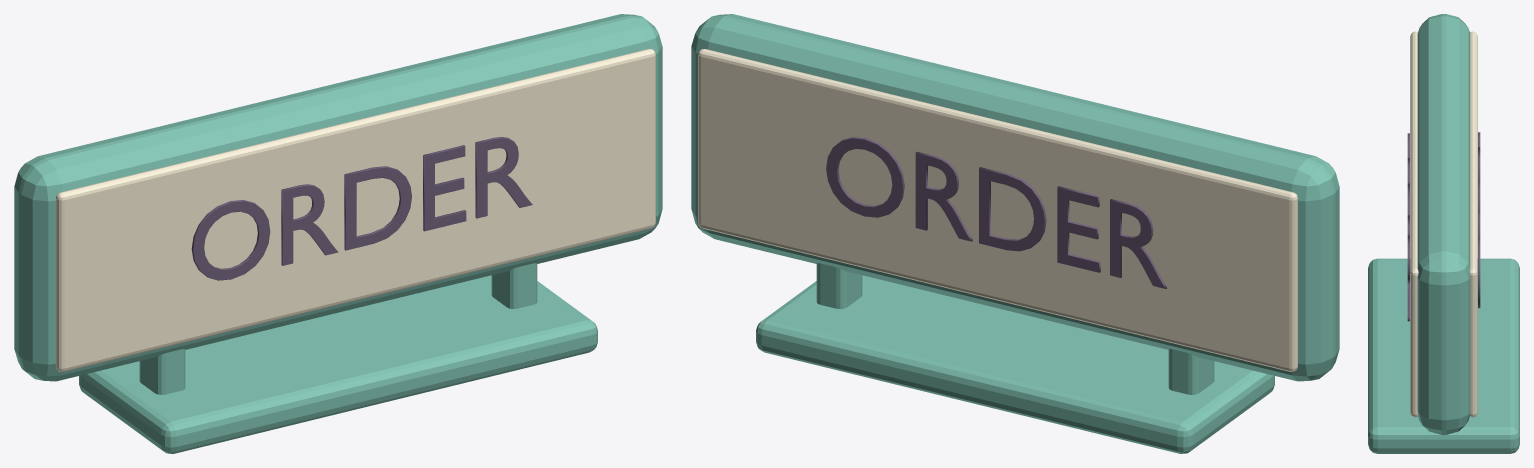
Rendered from OrderSign.fbx.
3 renders of one model, left to right at view 1: azimuth 30°, elevation 25°; view 2: azimuth 150°, elevation 25°; view 3: azimuth 270°, elevation 25°, orthographic. The views are drawn at different scales.
Parts seen in each view (by area): view 1: Cream face, Mint foot, Mint frame, ORDER front letters, Support, Support.001; view 2: Cream face.001, Mint foot, Mint frame, ORDER back letters, Support, Support.001; view 3: Mint frame, Mint foot, Cream face, Cream face.001, ORDER front letters, ORDER back letters.
Boxes of the visible parts, x1,y1,x2,y2 form: Cream face: (56,49,655,371); Mint foot: (79,275,597,453); Mint frame: (14,14,662,381); ORDER front letters: (191,137,532,280); Support: (139,349,185,394); Support.001: (491,263,537,308); Cream face.001: (698,49,1297,371); Mint foot: (756,275,1274,453); Mint frame: (691,14,1339,381); ORDER back letters: (826,137,1166,288); Support: (1168,349,1214,394); Support.001: (816,263,862,308); Mint frame: (1417,14,1470,434); Mint foot: (1368,258,1519,453); Cream face: (1410,31,1418,417); Cream face.001: (1469,31,1477,417); ORDER front letters: (1407,133,1409,321); ORDER back letters: (1478,132,1480,308).
Bounding box in the file's own units: 76 × 32.5 × 19.
